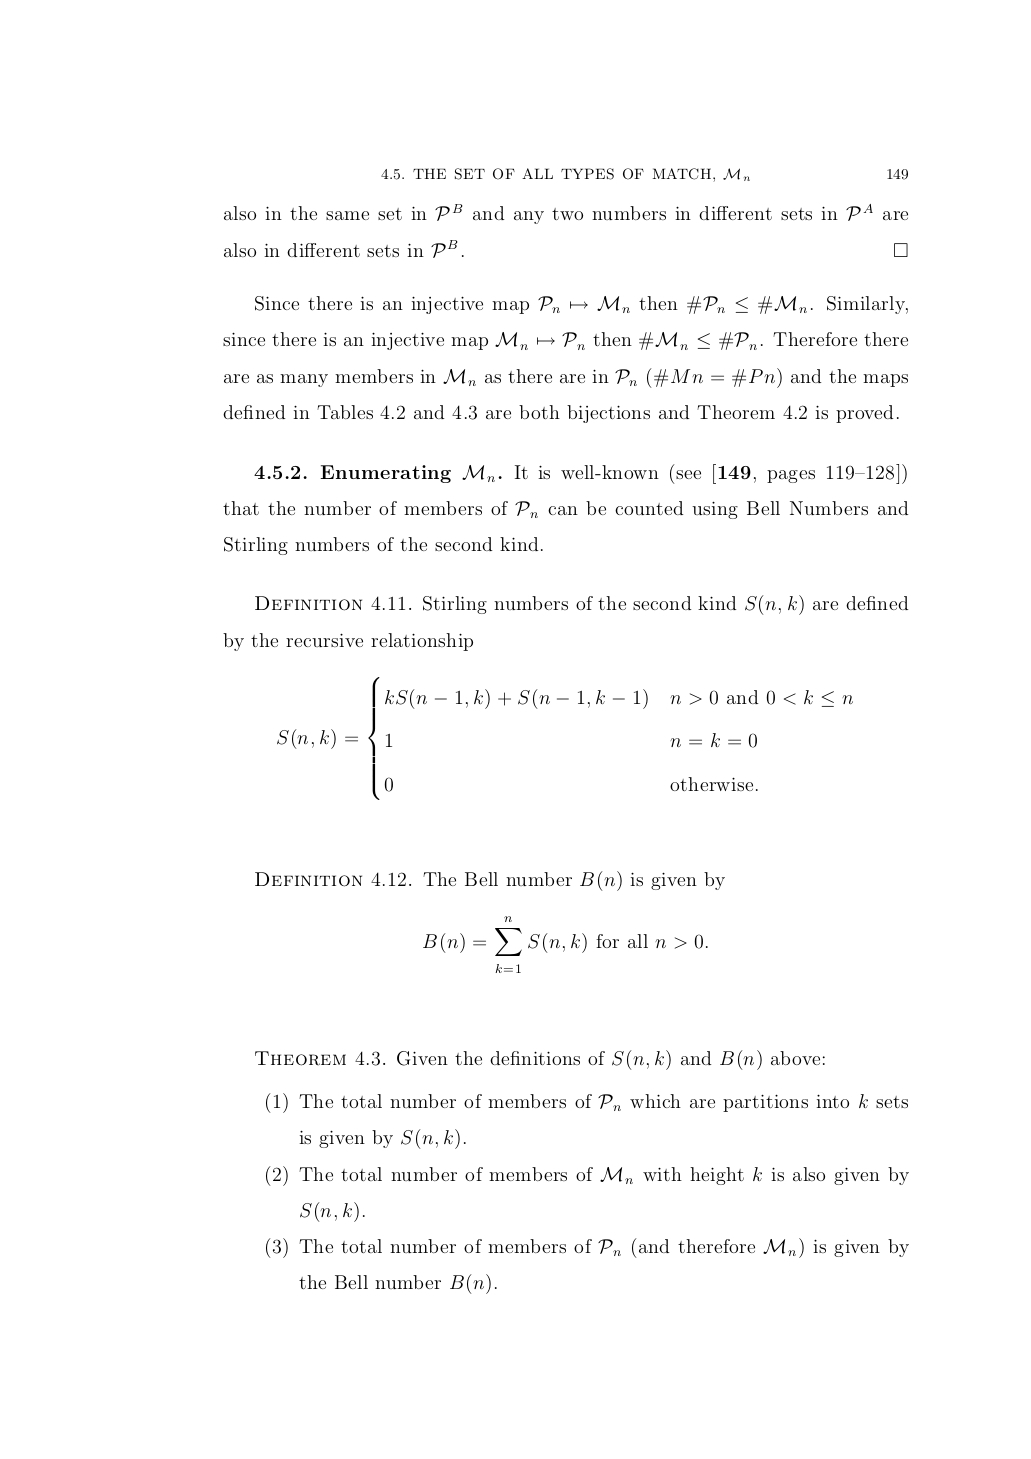formula: (277, 676, 852, 800), (423, 916, 707, 972)
